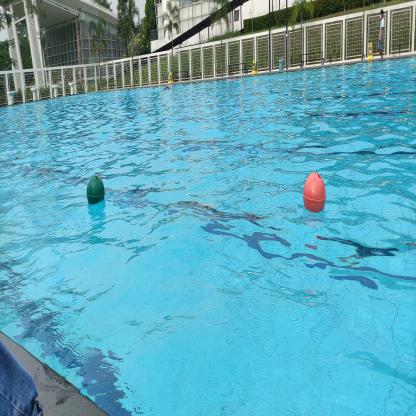green_buoy: (87, 173, 105, 207)
red_buoy: (301, 168, 329, 216)
